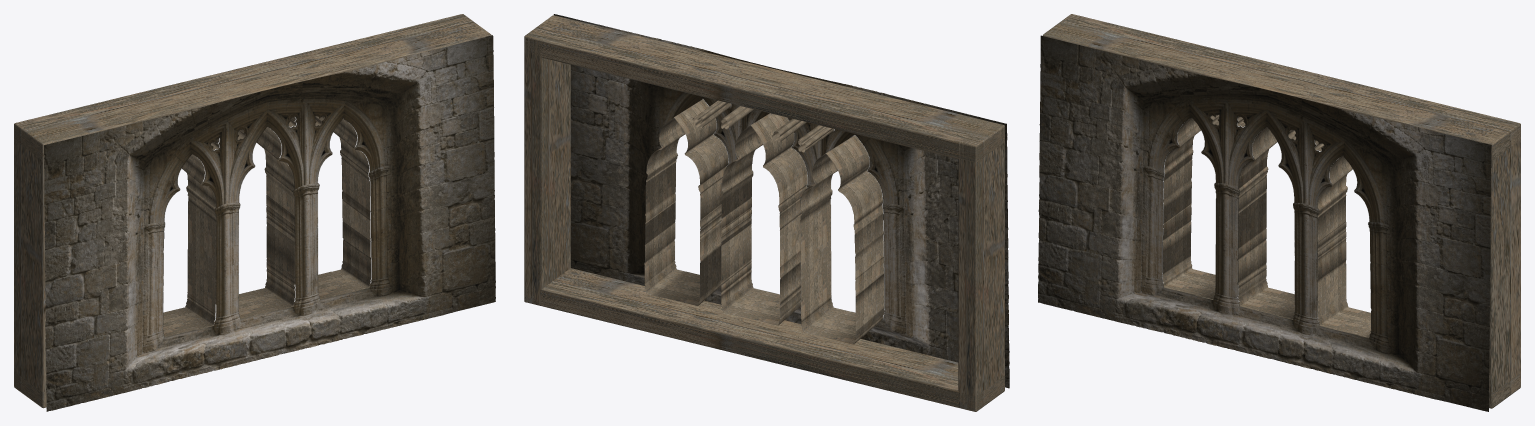
Rendered from ai_gothic_window_relief.glb.
The picture shows the model from 3 angles, left to right: view 1: azimuth 30°, elevation 25°; view 2: azimuth 150°, elevation 25°; view 3: azimuth 330°, elevation 25°; orthographic projection.
Visible parts, largest first — view 1: AI Gothic Photoreal Front, Top wall depth, Left wall depth, Open stone reveal 1, Open stone reveal 3, Open stone reveal 2, Heavy stone sill; view 2: AI Gothic Photoreal Front, Top wall depth, Heavy stone sill, Open stone reveal 2, Left wall depth, Open stone reveal 1, Right wall depth, Open stone reveal 3, Open stone reveal 4, Open stone reveal 5; view 3: AI Gothic Photoreal Front, Top wall depth, Right wall depth, Open stone reveal 1, Open stone reveal 3, Open stone reveal 2, Heavy stone sill.
Boxes of the visible parts, left/top/right/bottom form: AI Gothic Photoreal Front: left=44, top=35, right=495, bottom=411; Top wall depth: left=14, top=14, right=491, bottom=159; Left wall depth: left=14, top=124, right=59, bottom=407; Open stone reveal 1: left=212, top=127, right=294, bottom=318; Open stone reveal 3: left=289, top=117, right=371, bottom=299; Open stone reveal 2: left=163, top=154, right=216, bottom=336; Heavy stone sill: left=14, top=283, right=370, bottom=408; AI Gothic Photoreal Front: left=553, top=14, right=1009, bottom=388; Top wall depth: left=524, top=15, right=1004, bottom=162; Heavy stone sill: left=524, top=268, right=1004, bottom=411; Open stone reveal 2: left=800, top=135, right=884, bottom=343; Left wall depth: left=958, top=121, right=1004, bottom=411; Open stone reveal 1: left=721, top=113, right=807, bottom=325; Right wall depth: left=524, top=37, right=570, bottom=305; Open stone reveal 3: left=644, top=99, right=728, bottom=305; Open stone reveal 4: left=692, top=100, right=731, bottom=128; Open stone reveal 5: left=798, top=125, right=833, bottom=152; AI Gothic Photoreal Front: left=1038, top=35, right=1491, bottom=411; Top wall depth: left=1042, top=14, right=1520, bottom=160; Right wall depth: left=1475, top=120, right=1520, bottom=408; Open stone reveal 1: left=1238, top=127, right=1319, bottom=318; Open stone reveal 3: left=1317, top=155, right=1371, bottom=337; Open stone reveal 2: left=1162, top=117, right=1242, bottom=299; Heavy stone sill: left=1163, top=284, right=1520, bottom=408.
Bounding box in the file's own units: 6.4 × 3.6 × 0.82.
2 materials, 2 textured.
